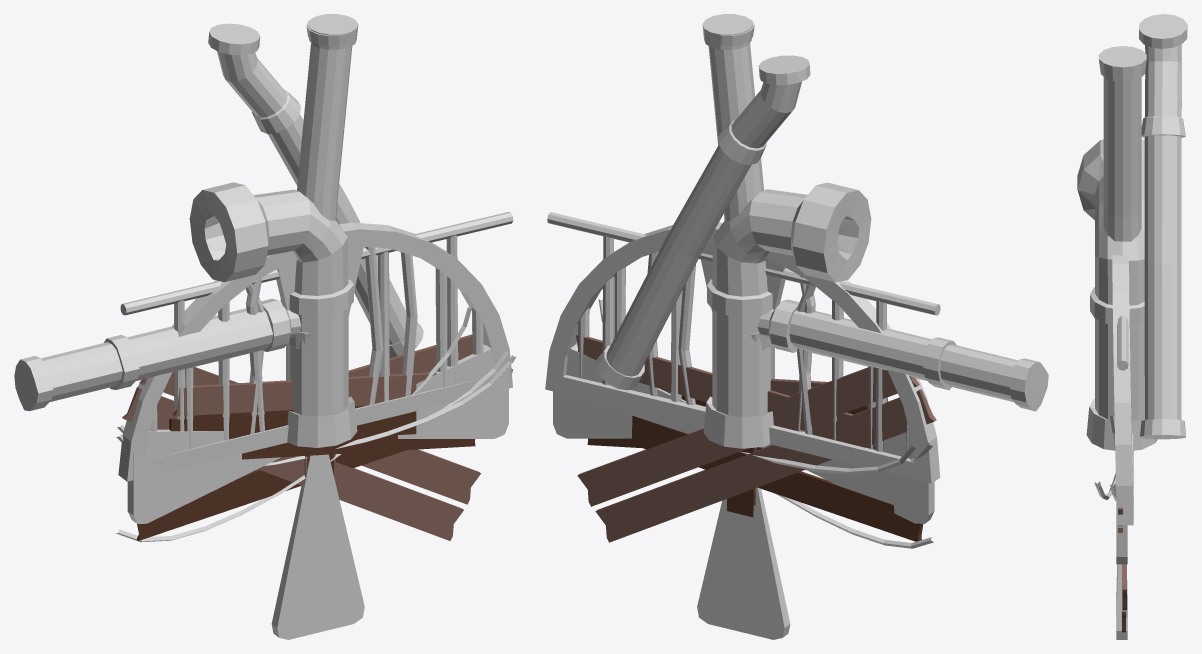
The model's file is fixed_obstacles.glb.
The picture shows the model from 3 angles, left to right: view 1: azimuth 30°, elevation 25°; view 2: azimuth 150°, elevation 25°; view 3: azimuth 270°, elevation 25°; orthographic projection. The views are drawn at different scales.
Visible parts, largest first — view 1: propeller, pipe2, grid, wood3, pipe3, wood4, pipe4, grid2, pipe5, cable2, pipe; view 2: pipe2, wood3, grid, pipe3, propeller, wood4, grid2, pipe5, pipe4, pipe, cable2; view 3: pipe3, pipe2, pipe, grid, propeller, grid2, wood3, cable2.
Boxes of the visible parts, <box> form: propeller: <box>127,246,508,639</box>; pipe2: <box>189,182,357,447</box>; grid: <box>118,222,512,481</box>; wood3: <box>122,367,512,540</box>; pipe3: <box>208,21,423,358</box>; wood4: <box>136,334,475,540</box>; pipe4: <box>14,305,300,411</box>; grid2: <box>120,212,513,450</box>; pipe5: <box>104,298,300,389</box>; cable2: <box>116,307,516,542</box>; pipe: <box>305,14,358,337</box>; pipe2: <box>703,182,871,448</box>; wood3: <box>577,367,936,542</box>; grid: <box>545,222,940,483</box>; pipe3: <box>595,21,810,390</box>; propeller: <box>553,245,934,639</box>; wood4: <box>576,333,923,541</box>; grid2: <box>547,212,940,451</box>; pipe5: <box>757,299,956,390</box>; pipe4: <box>757,305,1048,411</box>; pipe: <box>702,14,759,340</box>; cable2: <box>576,299,933,548</box>; pipe3: <box>1098,14,1187,439</box>; pipe2: <box>1077,139,1157,450</box>; pipe: <box>1099,46,1146,241</box>; grid: <box>1112,254,1133,525</box>; propeller: <box>1116,507,1127,639</box>; grid2: <box>1117,315,1128,370</box>; wood3: <box>1118,507,1126,632</box>; cable2: <box>1094,415,1115,499</box>.
Bounding box in the file's own units: 15.11 × 17.88 × 3.1.
